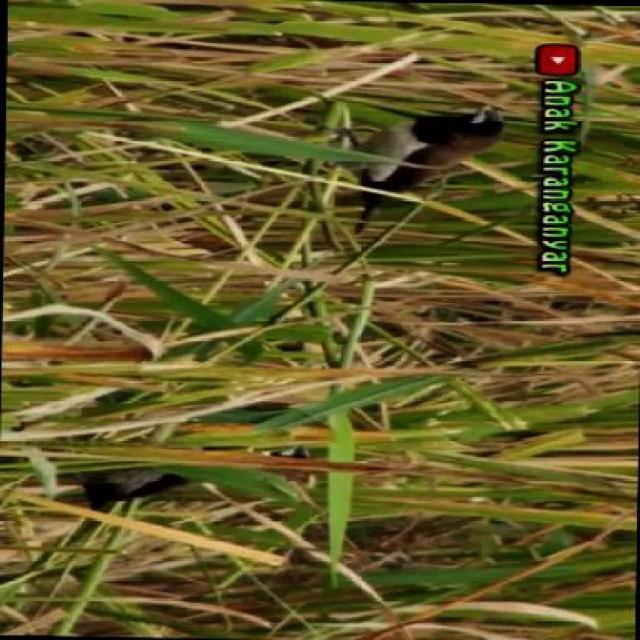Bird: (313, 72, 522, 240)
